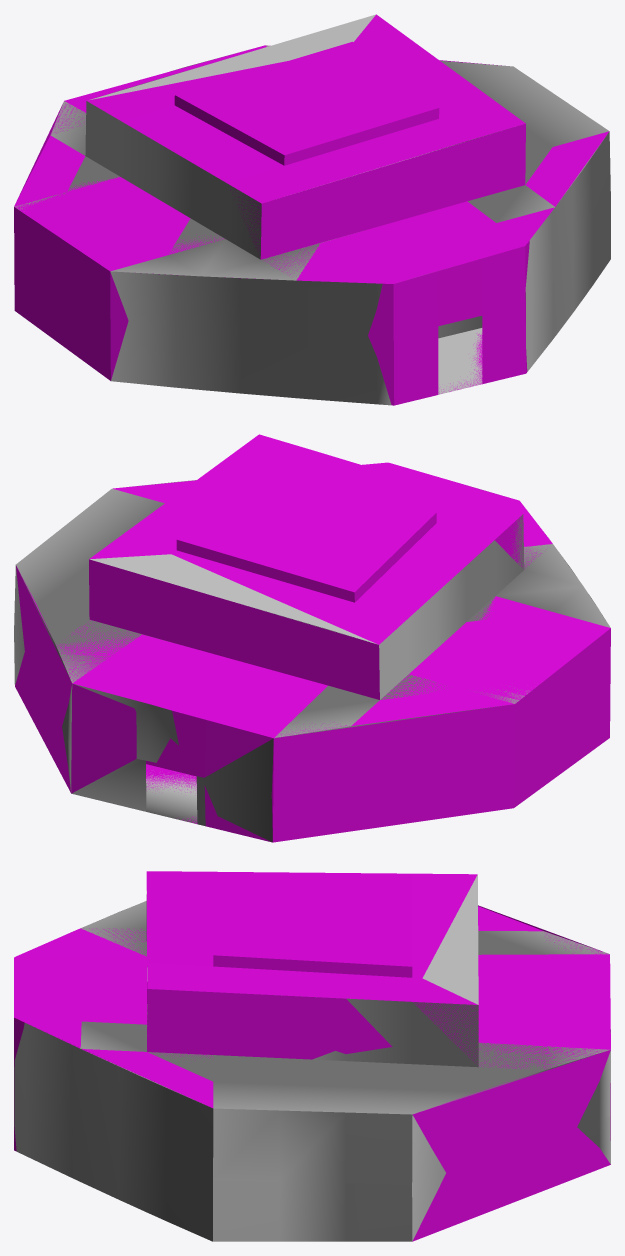
File: office_puzzle_room.fbx
3 views of the same model, one above another, from view 1: azimuth 30°, elevation 25°; view 2: azimuth 150°, elevation 25°; view 3: azimuth 270°, elevation 25° (orthographic). The views are drawn at different scales.
Parts seen in each view (by area): view 1: walls (×2), ceiling1 (×2), ceiling2, Ceiling2, floor; view 2: walls (×2), ceiling1 (×2), ceiling2, Ceiling2, floor (×2); view 3: walls (×2), ceiling1 (×2), ceiling2, Ceiling2.
Part boxes in pixels (<box>): walls (×2): <box>14,41,610,405</box>; ceiling1 (×2): <box>14,45,609,283</box>; ceiling2: <box>86,14,525,203</box>; Ceiling2: <box>89,14,447,182</box>; floor: <box>202,328,482,394</box>; walls (×2): <box>14,465,610,842</box>; ceiling1 (×2): <box>16,462,610,738</box>; ceiling2: <box>89,434,522,644</box>; Ceiling2: <box>90,554,377,644</box>; floor (×2): <box>146,764,197,823</box>; walls (×2): <box>14,886,610,1241</box>; ceiling1 (×2): <box>14,901,610,1114</box>; ceiling2: <box>146,871,477,1004</box>; Ceiling2: <box>146,875,478,1004</box>.
Size of the model in its own units: 135 by 49.81 by 135.
